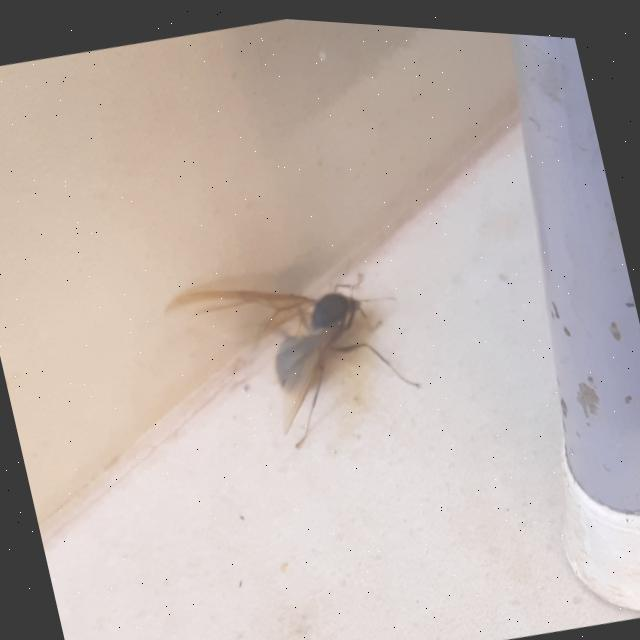Alive-Male-Alate: (162, 241, 431, 475)
